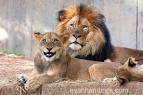lion: (29, 28, 130, 87), (54, 5, 143, 66)
